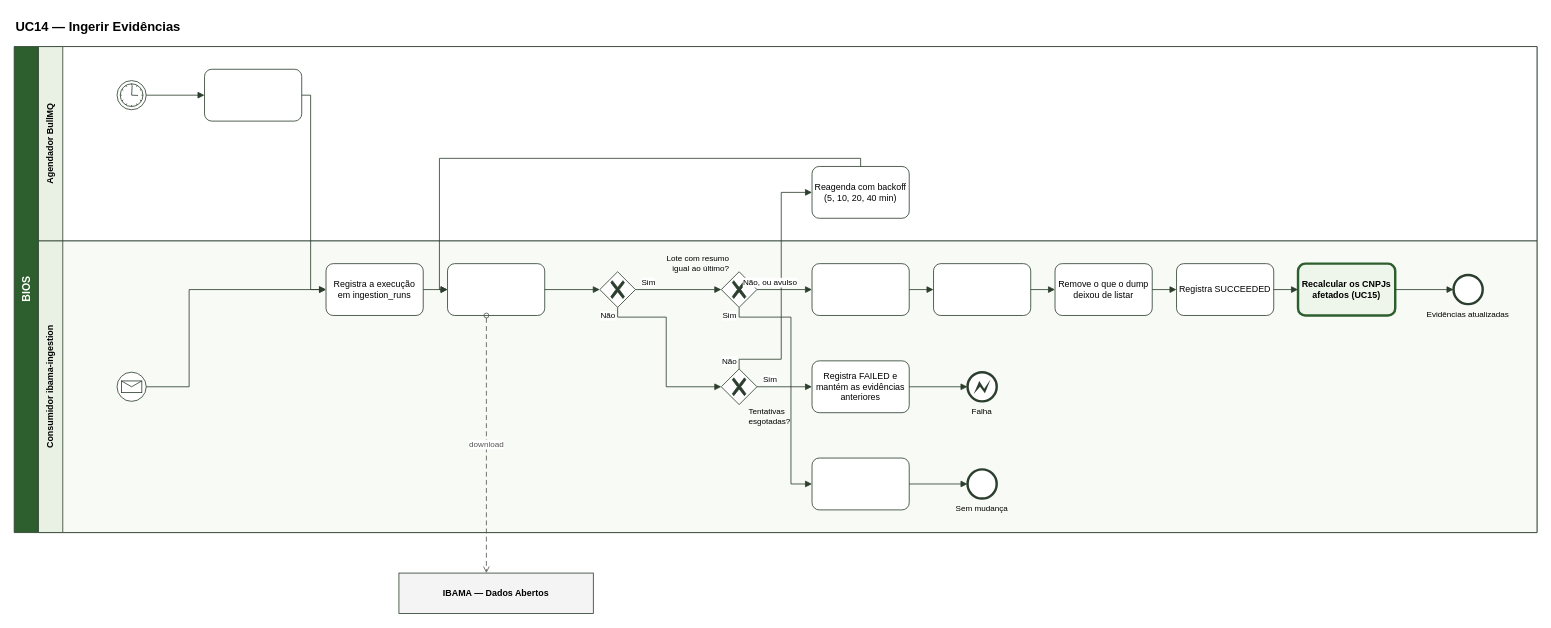
This 1551x628 diagram has some shape labels left out. The shapes that lost their labels are listed below. From the top down, each one's box as (x1, y1, x2, y2) in pixels, then its label:
(116, 80, 146, 110): Diariamente
(204, 68, 302, 121): Dispara o lote diário
(447, 263, 545, 315): Baixa os dois dumps (autos e embargos)
(599, 271, 635, 307): Download e formato válidos?
(811, 263, 909, 315): Descarta pessoa física, anulados e linhas malformadas
(933, 263, 1031, 315): Grava evidence_raw e evidence_normalized
(116, 371, 146, 401): Job avulso por CNPJ (UC07)
(811, 457, 909, 510): Renova a validade e registra SKIPPED_UNCHANGED
